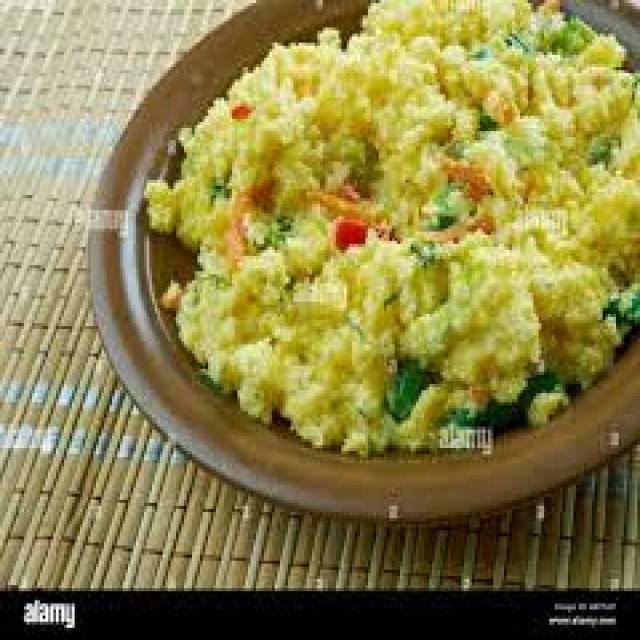UPMA: (141, 0, 635, 445)
